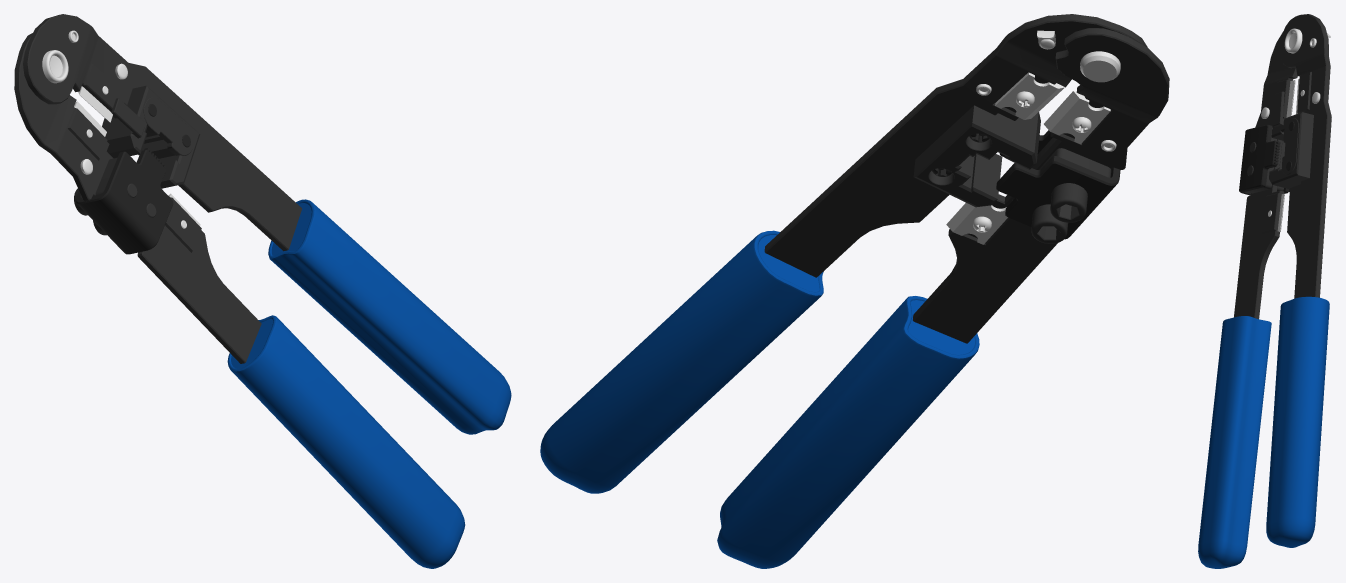
The model's file is CrimpLandingButton.glb.
The picture shows the model from 3 angles, left to right: view 1: azimuth 30°, elevation 25°; view 2: azimuth 150°, elevation 25°; view 3: azimuth 270°, elevation 25°; orthographic projection. The views are drawn at different scales.
Parts seen in each view (by area): view 1: Handle2.001; view 2: Handle2.001; view 3: Handle2.001.
Boxes of the visible parts, x1,y1,x2,y2 form: Handle2.001: (14, 14, 511, 568); Handle2.001: (540, 14, 1169, 568); Handle2.001: (1198, 14, 1331, 568).
Bounding box in the file's own units: 0.1514 × 0.1667 × 0.0465.
